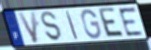E: (116, 6, 145, 38), (98, 7, 126, 39)
G: (81, 8, 103, 40)
I: (65, 10, 79, 40)
S: (41, 11, 64, 43)
V: (17, 10, 39, 45)
